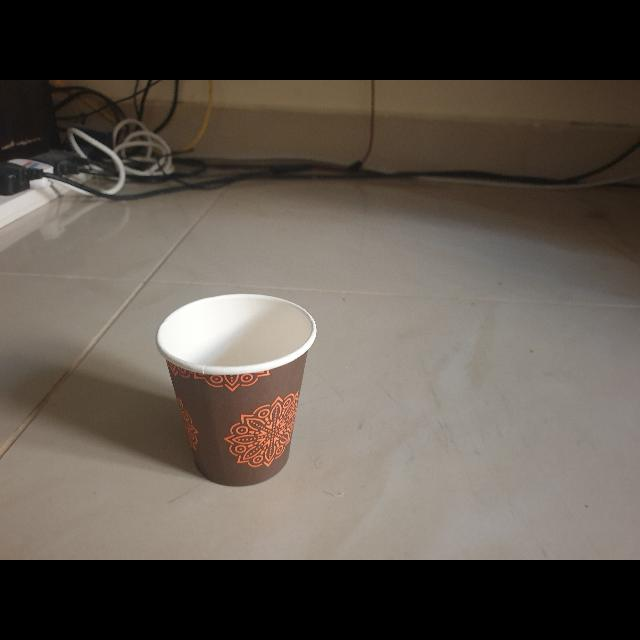trash: (153, 286, 319, 492)
